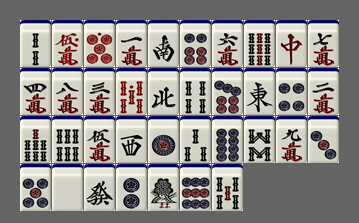0m: (52, 20, 83, 67)
0p: (84, 20, 115, 67)
0s: (116, 68, 147, 115)
1m: (116, 20, 147, 67)
1p: (148, 116, 179, 163)
1s: (148, 164, 179, 211)
1z: (244, 68, 275, 115)
2m: (308, 68, 339, 115)
2p: (116, 164, 147, 211)
2s: (20, 20, 51, 67)
2z: (148, 20, 179, 67)
3m: (84, 68, 115, 115)
3p: (308, 116, 339, 163)
3s: (180, 116, 211, 163)
3z: (116, 116, 147, 163)
4m: (20, 68, 51, 115)
4p: (276, 68, 307, 115)
4s: (180, 68, 211, 115)
4z: (148, 68, 179, 115)
5m: (84, 116, 115, 163)
5p: (20, 164, 51, 211)
5s: (212, 164, 243, 211)
5z: (52, 164, 83, 211)
6m: (212, 20, 243, 67)
6p: (180, 20, 211, 67)
6s: (52, 116, 83, 163)
6z: (84, 164, 115, 211)
7m: (308, 20, 339, 67)
7p: (212, 68, 243, 115)
7s: (20, 116, 51, 163)
7z: (276, 20, 307, 67)
8m: (52, 68, 83, 115)
8p: (212, 116, 243, 163)
8s: (244, 116, 275, 163)
9m: (276, 116, 307, 163)
9p: (180, 164, 211, 211)
9s: (244, 20, 275, 67)
